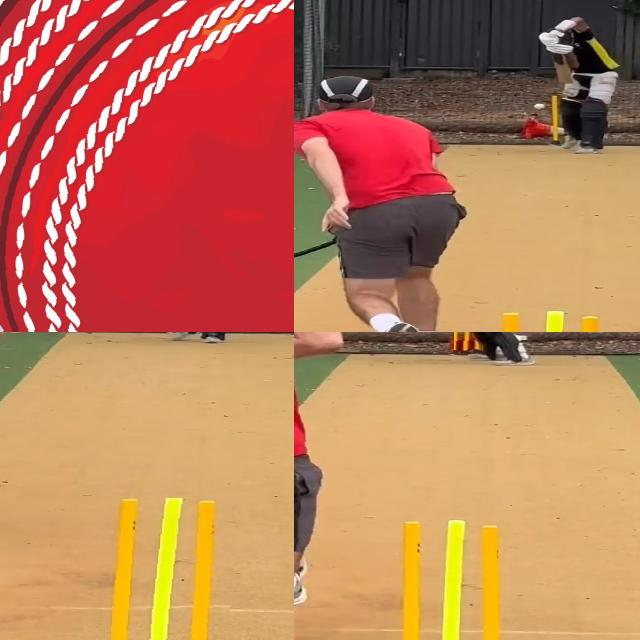Cricket ball: (0, 0, 294, 332), (532, 102, 547, 111)
Stumps: (101, 498, 238, 640), (384, 519, 518, 640), (454, 332, 485, 357)
